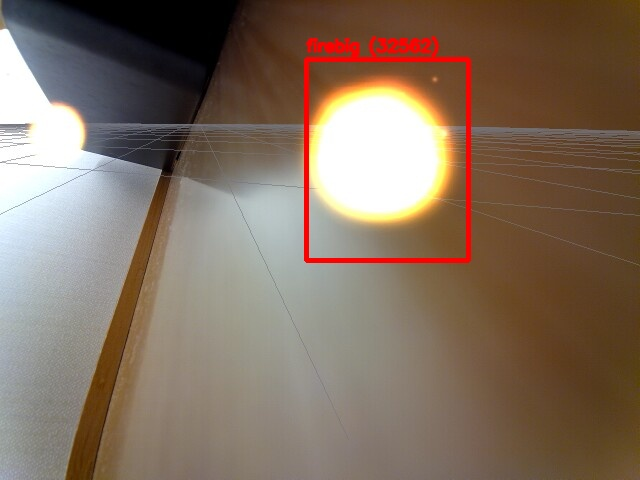firebig: (306, 59, 468, 260)
